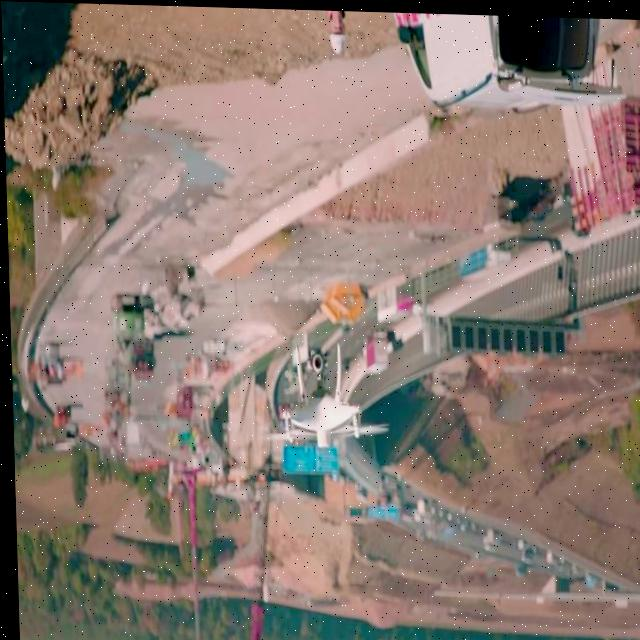drone: (260, 340, 386, 449)
